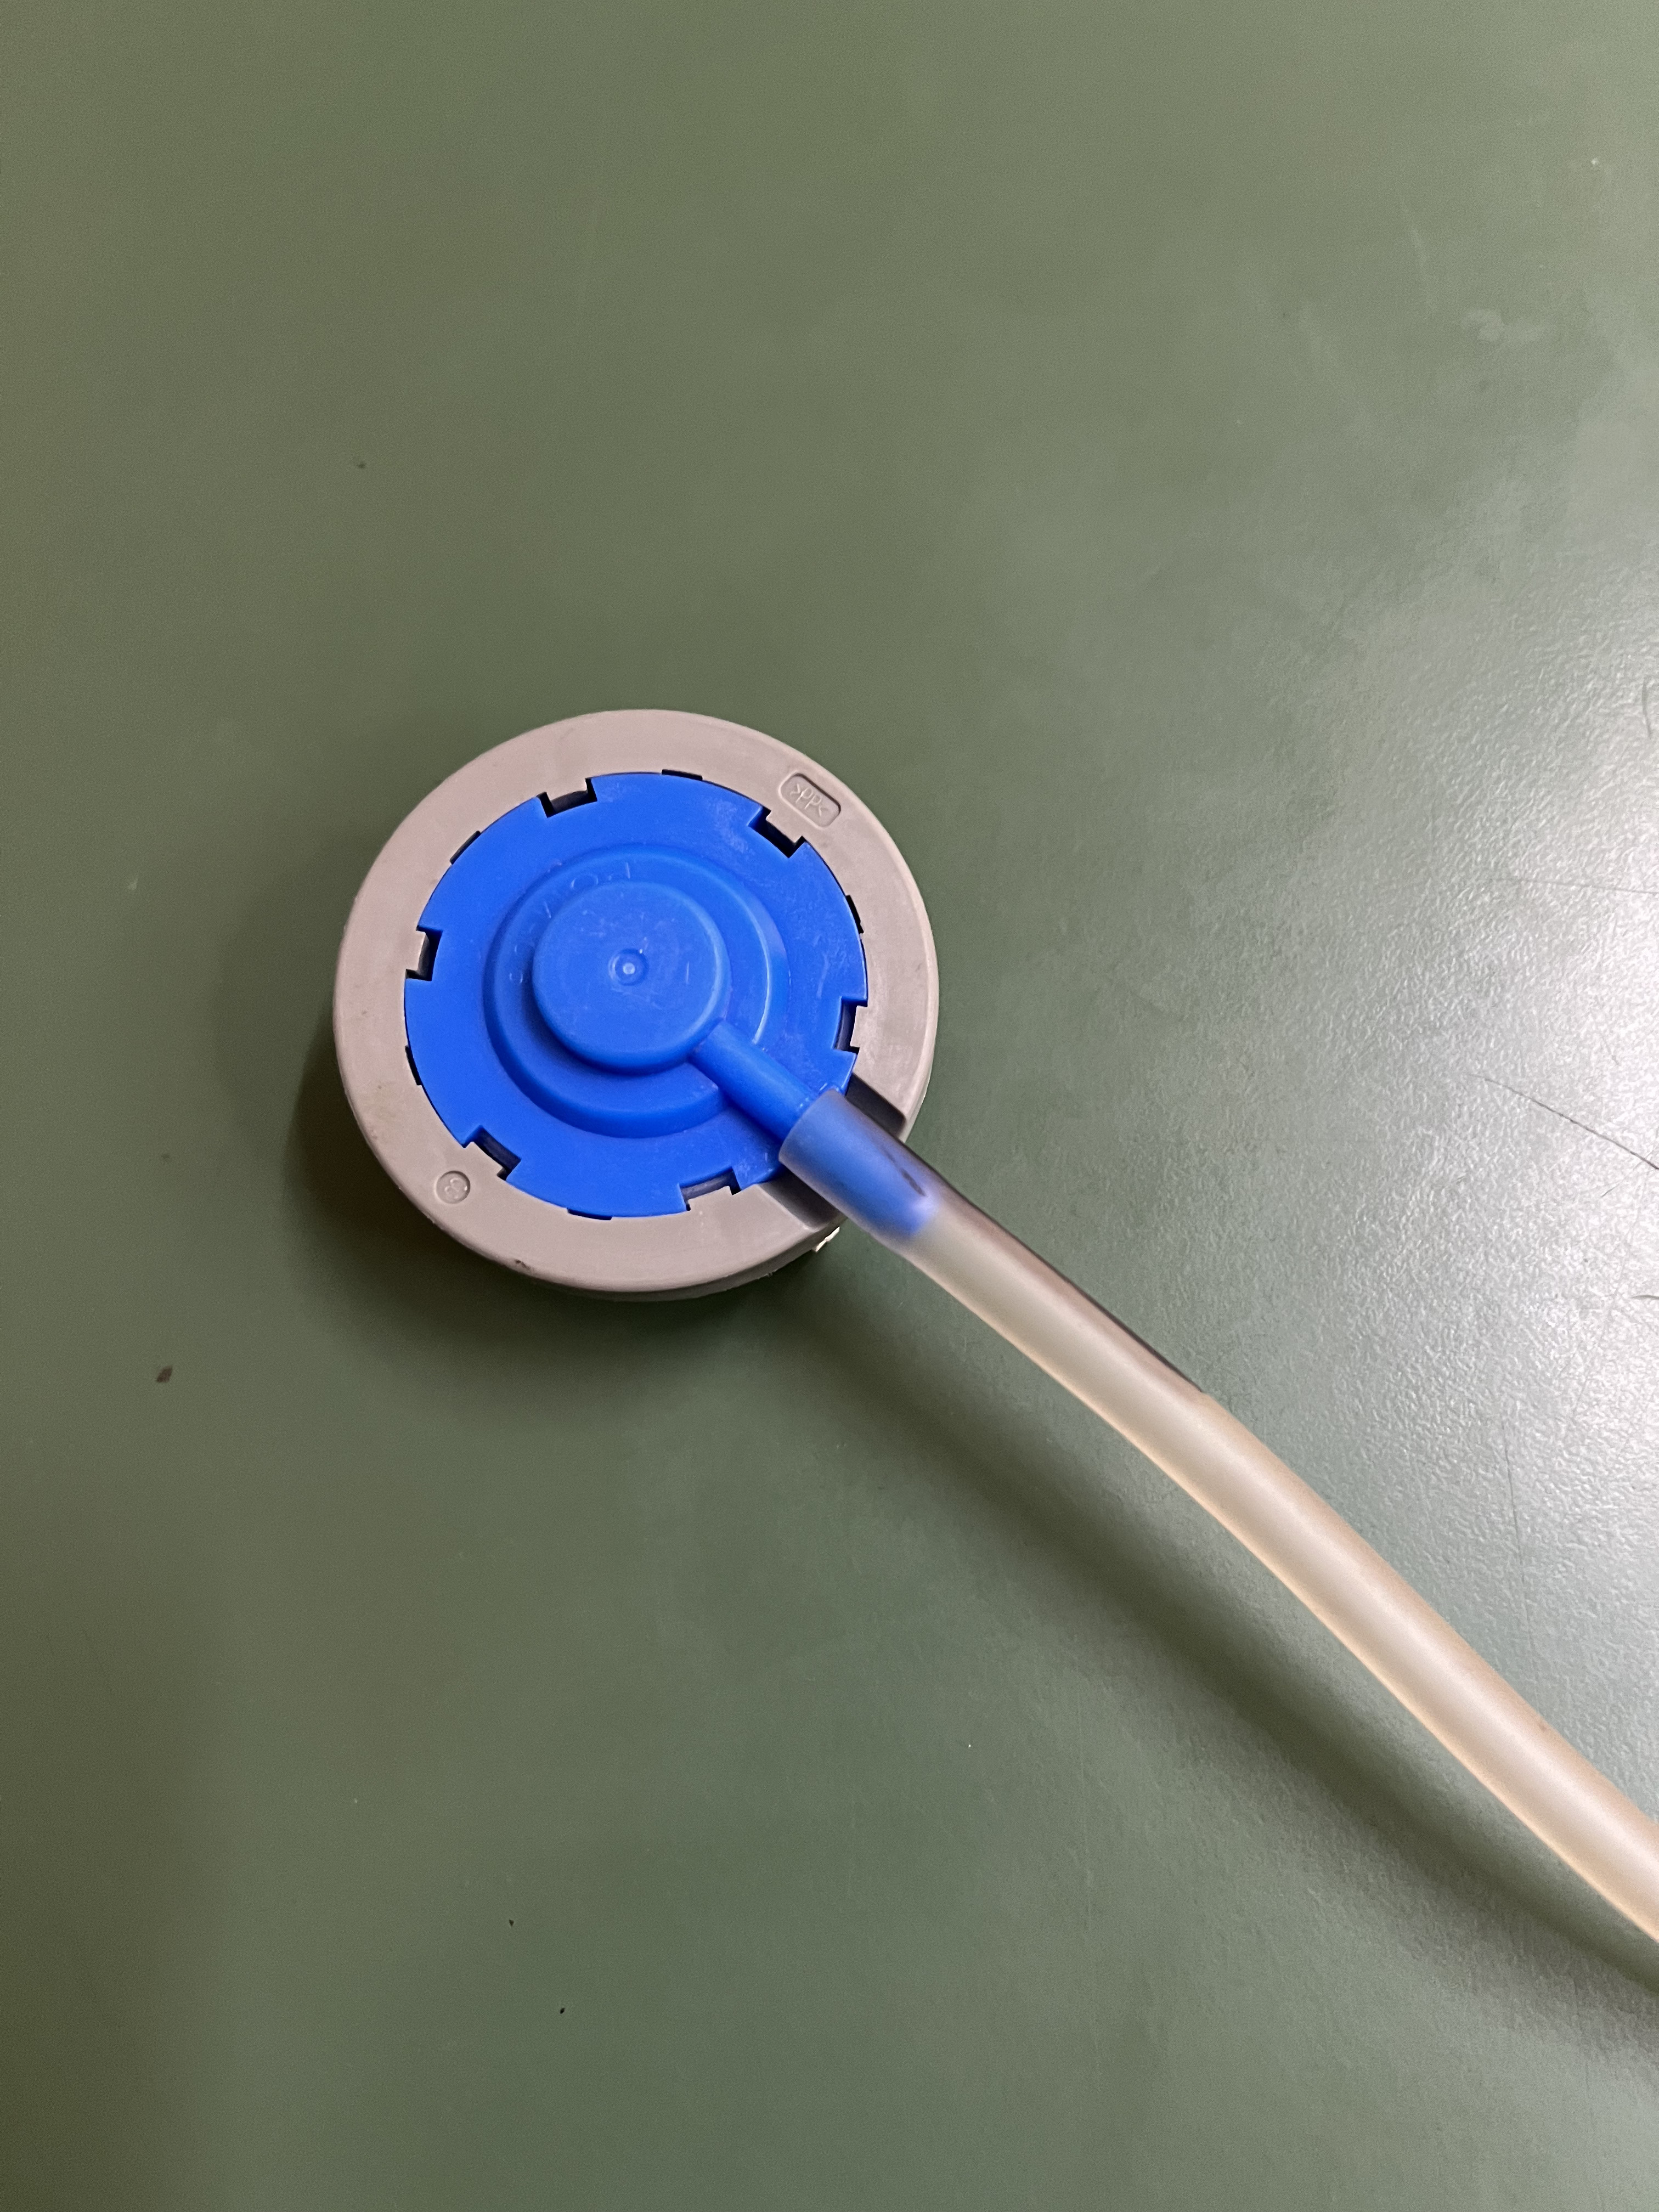pressure_sensor: (319, 671, 997, 1327)
